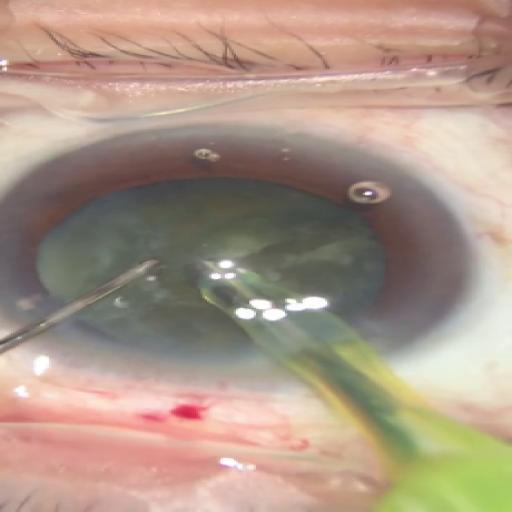catarata: (0, 119, 485, 389)
cornea: (43, 179, 387, 354)
